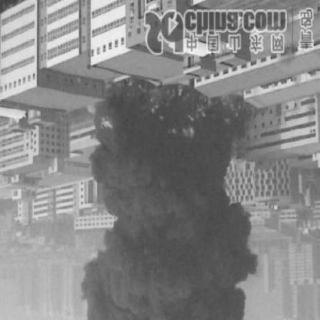Fire: (165, 124, 198, 142), (187, 101, 211, 122), (222, 103, 240, 125), (98, 112, 116, 134)
